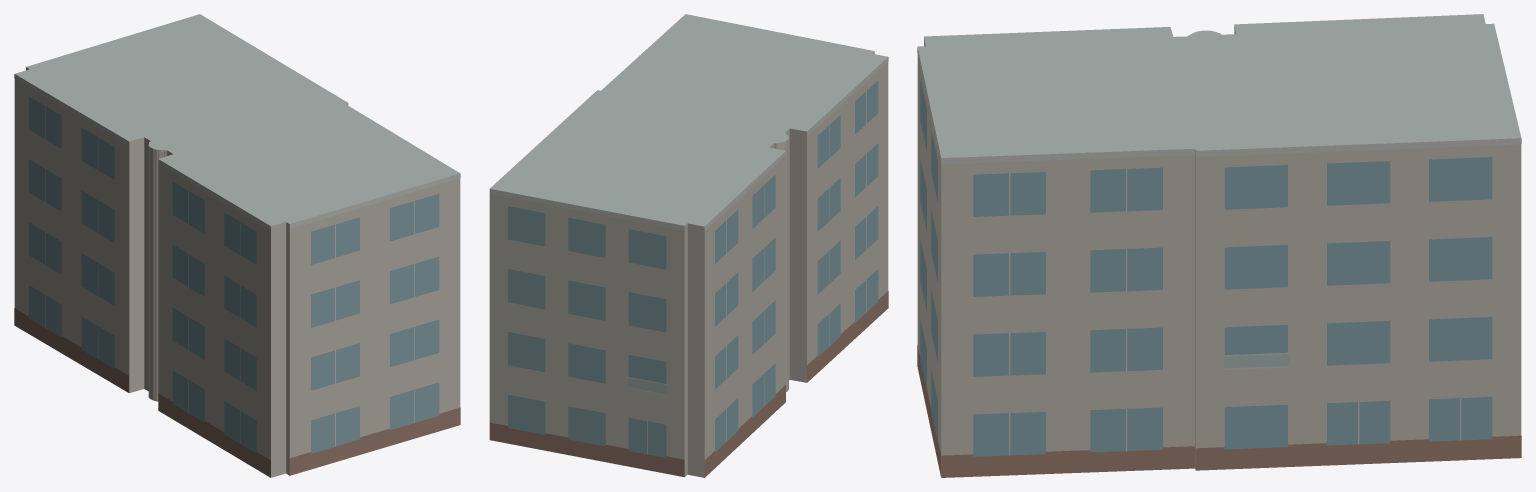
Rendered from survey-upis-32652890.glb.
The picture shows the model from 3 angles, left to right: view 1: azimuth 30°, elevation 25°; view 2: azimuth 150°, elevation 25°; view 3: azimuth 270°, elevation 25°; orthographic projection. The views are drawn at different scales.
Visible parts, largest first — view 1: survey-upis-32652890.tmp; view 2: survey-upis-32652890.tmp; view 3: survey-upis-32652890.tmp.
Boxes of the visible parts, bbox=[...] form: survey-upis-32652890.tmp: bbox=[14, 14, 460, 477]; survey-upis-32652890.tmp: bbox=[489, 14, 888, 477]; survey-upis-32652890.tmp: bbox=[917, 14, 1521, 477].
Bounding box in the file's own units: 12.26 × 12.67 × 21.7.
